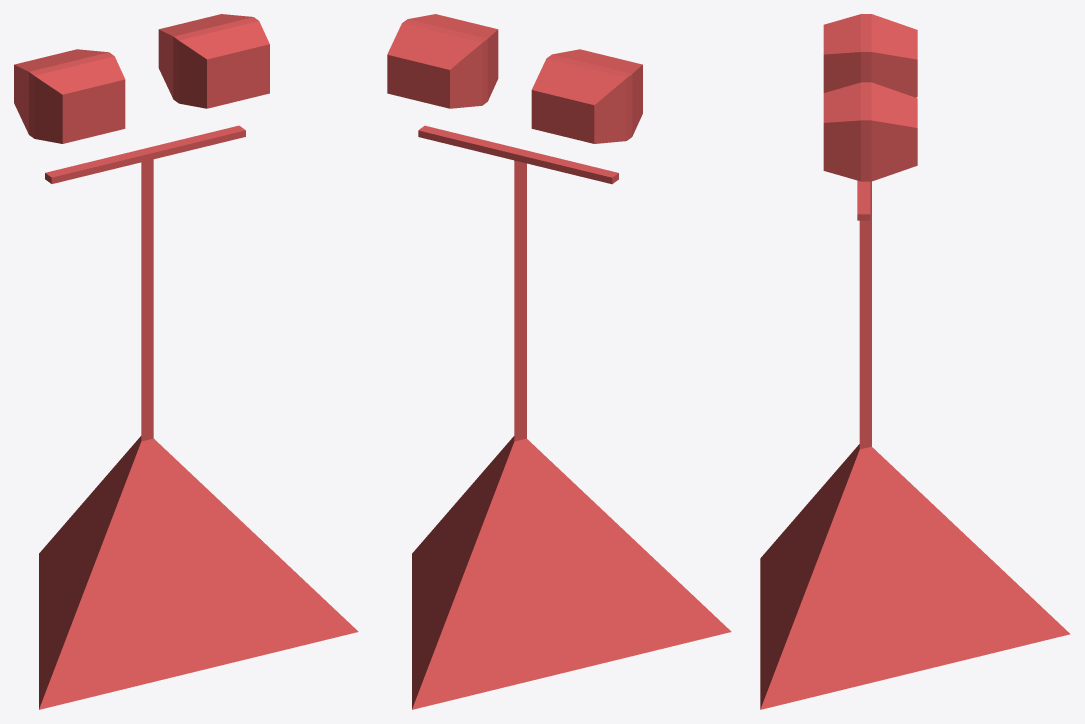
Rendered from coll_worklight.fbx.
3 views of the same model, side by side, from view 1: azimuth 30°, elevation 25°; view 2: azimuth 150°, elevation 25°; view 3: azimuth 270°, elevation 25° (orthographic). The views are drawn at different scales.
Visible parts, largest first — view 1: coll_worklight; view 2: coll_worklight; view 3: coll_worklight.
Boxes of the visible parts, x1,y1,x2,y2 form: coll_worklight: (14, 14, 358, 709); coll_worklight: (387, 14, 731, 709); coll_worklight: (760, 14, 1070, 709).
Size of the model in its own units: 2.63 by 4.58 by 2.27.
